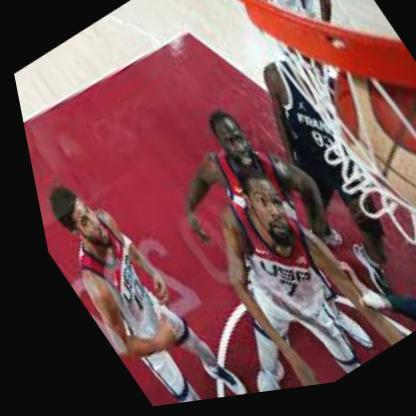basketball: (295, 34, 416, 298)
rim: (196, 0, 416, 179)
